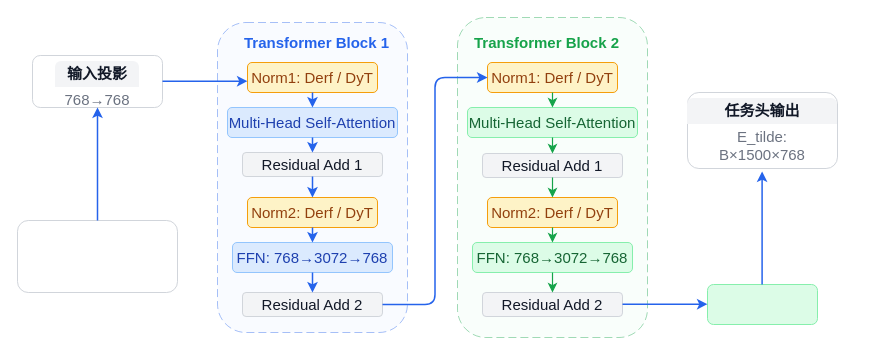
This 870x355 diagram has some shape labels left out. Each missing label, with the centre of its shape:
"输入序列 E: B×1500×768" belongs at point (97, 256).
"输出归一化: Derf / DyT" belongs at point (762, 304).
